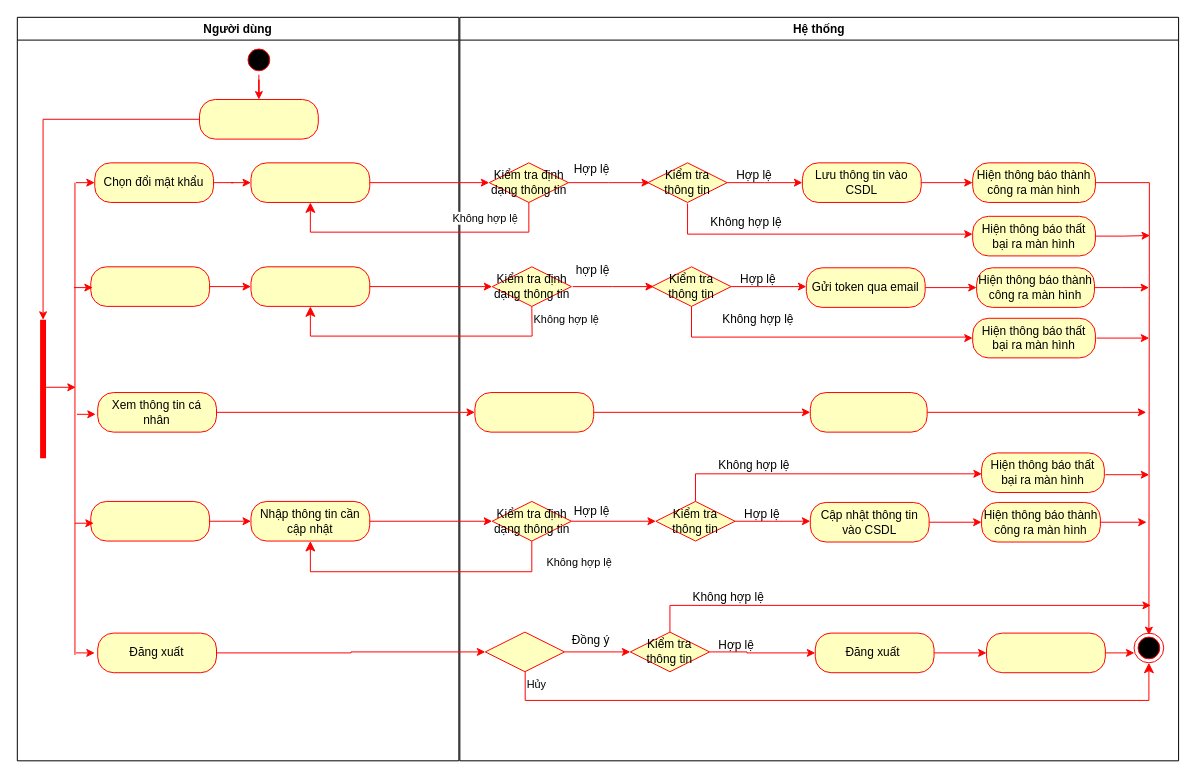
This 1196x778 diagram has some shape labels left out. The shapes that lost their labels are listed below. From the top down, each one's centre as x and y in pixels, then its label:
point 258,119: Chọn quản lí tài khoản cá nhân
point 310,182: Nhập thông tin mật khẩu cũ, mới
point 150,286: Chọn quên mật khẩu
point 310,286: Nhập thông tin email đăng ký
point 534,412: Truy xuất dữ liệu sản phẩm trong CSDL
point 868,412: Hiện thông tin ra màn hình
point 150,520: Cập nhật thông tin cá nhân
point 524,651: Xác nhận
point 1045,652: Điều hướng về trang chủ
